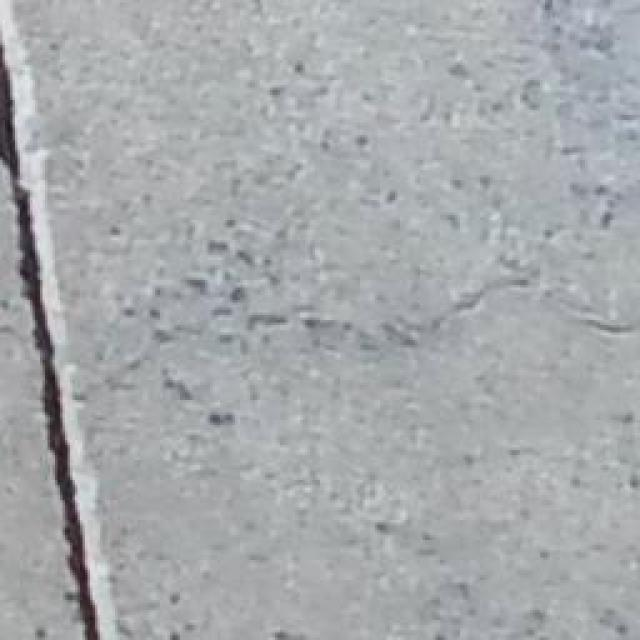concrete-crack: (76, 269, 638, 410)
